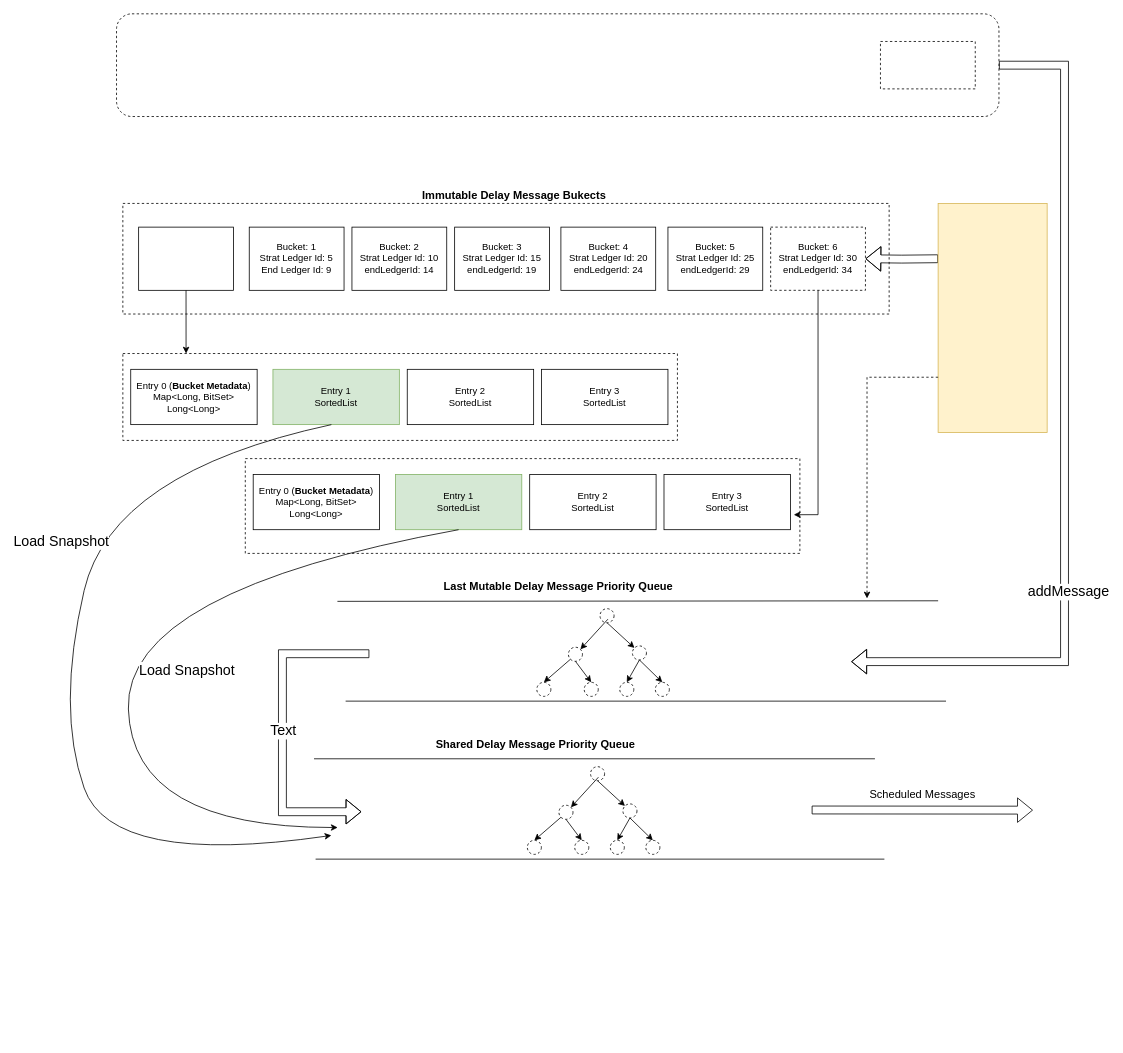
Image size: 1123x1053. Some labels were removed from this diagram. The shapes that lost their labels are listed below. From the top down, each one's box as (x1, y1, x2, y2) in pixels, then its label:
(138, 226, 233, 290): Bucket: 0 stratLedgerId: 0 endLedgerId: 4
(937, 203, 1047, 433): Last Mutable Bucket Strat Ledger Id: 30 endLedgerId: 34 Map<Long, BitSet>
